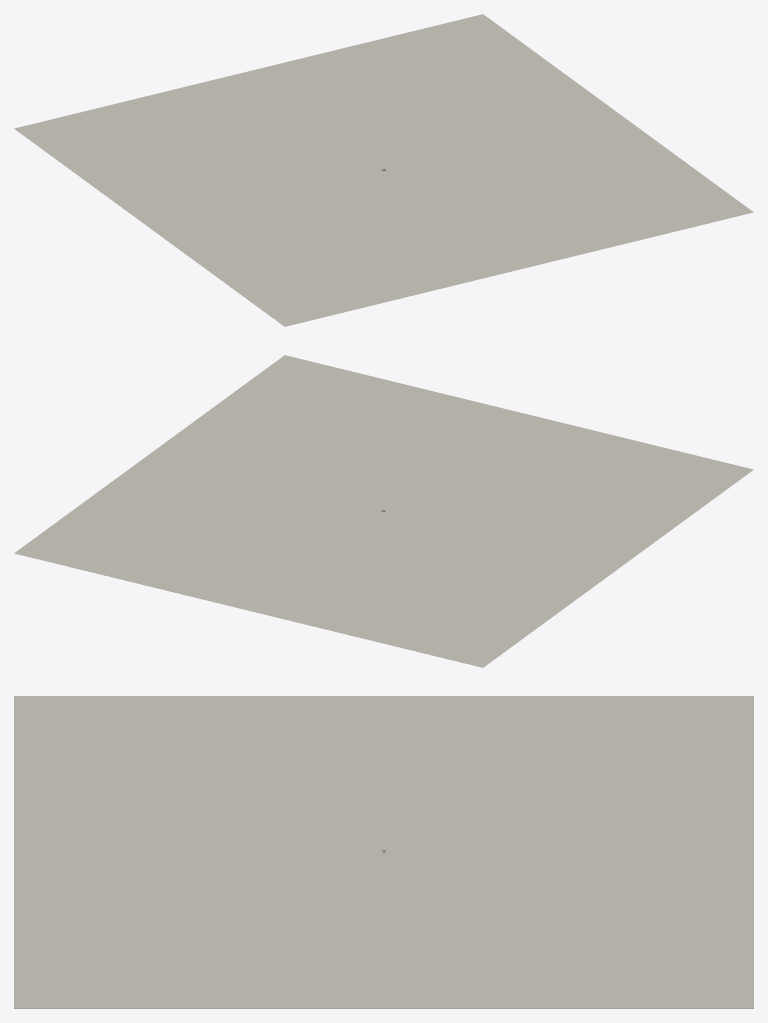
Rendered from casa-patio-exterior.glb.
3 renders of one model, top to bottom at view 1: azimuth 30°, elevation 25°; view 2: azimuth 150°, elevation 25°; view 3: azimuth 270°, elevation 25°, orthographic. The views are drawn at different scales.
Parts seen in each view (by area): view 1: terrain_geometry; view 2: terrain_geometry; view 3: terrain_geometry.
Part boxes in pixels (left/top/right/bottom): terrain_geometry: left=14, top=14, right=753, bottom=326; terrain_geometry: left=14, top=355, right=753, bottom=667; terrain_geometry: left=14, top=696, right=753, bottom=1008.
Size of the model in its own units: 2000 by 5.41 by 2000.
14 materials, 2 textured.
